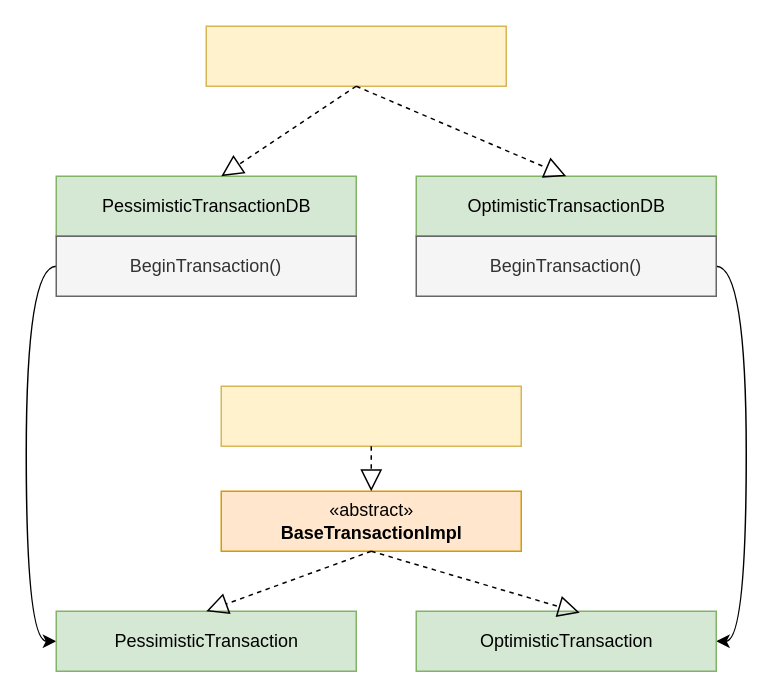
The diagram is 773 pixels wide and 698 high, and some of its shapes have lost their labels. Here are the shapes that lost their labels. From the top down, the centre of each, then its label:
the point at 355,55: «interface» TransactionDB
the point at 370,415: «interface» Transaction
